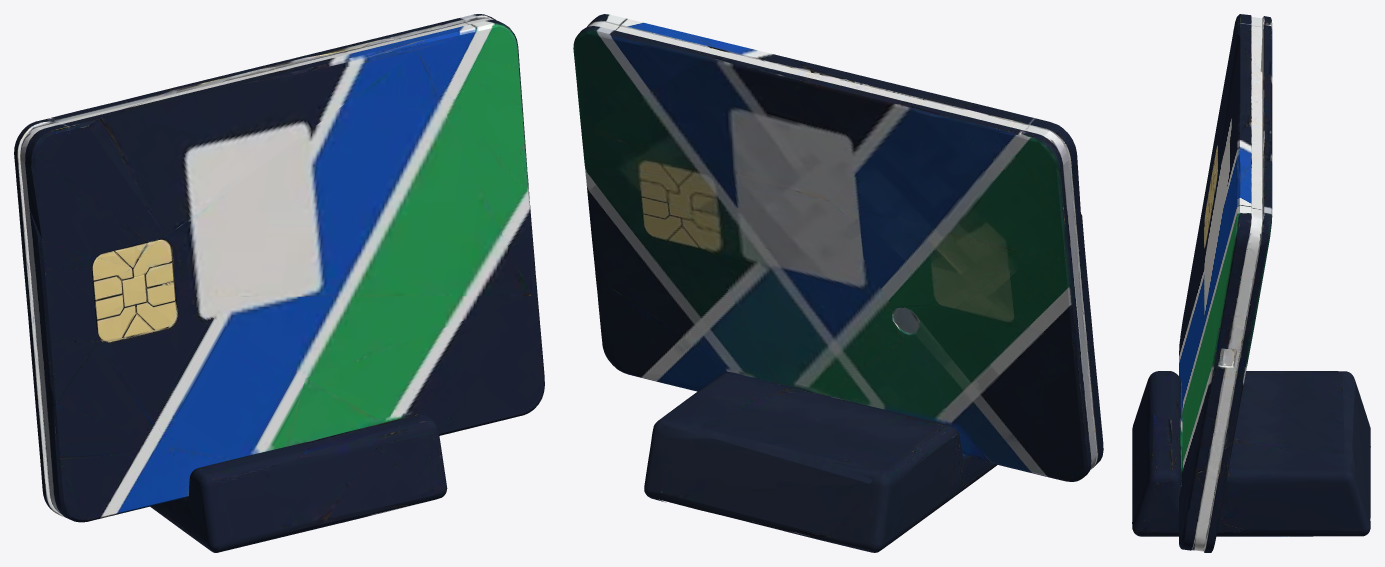
The model's file is tessera-sanitaria.glb.
3 renders of one model, left to right at view 1: azimuth 30°, elevation 25°; view 2: azimuth 150°, elevation 25°; view 3: azimuth 270°, elevation 25°, orthographic. The views are drawn at different scales.
Visible parts, largest first — view 1: Mesh_0; view 2: Mesh_0; view 3: Mesh_0.
Part boxes in pixels (<box>): Mesh_0: <box>14,14,544,552</box>; Mesh_0: <box>573,14,1103,552</box>; Mesh_0: <box>1132,14,1370,552</box>.
Bounding box in the file's own units: 1.9 × 1.53 × 0.8848.
1 material, 1 textured.
